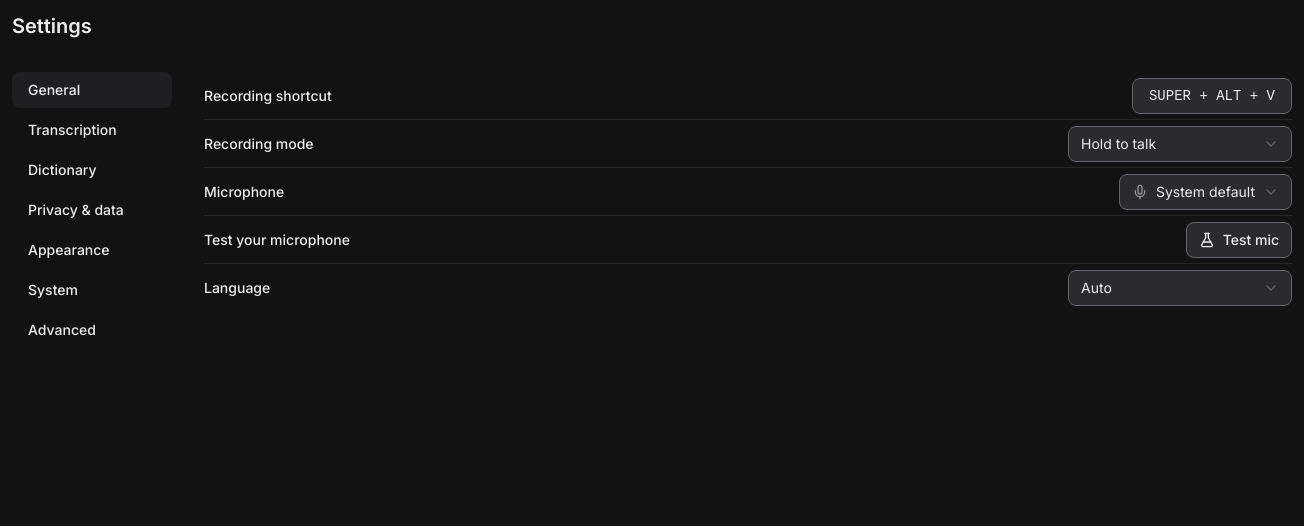
Test case: offers exactly seven settings groups and keeps advanced fields separate
Expected: the field labelled "Provider URL" is not shown
Click the button "Advanced".
click(92, 330)  # box 12,312 -> 172,348
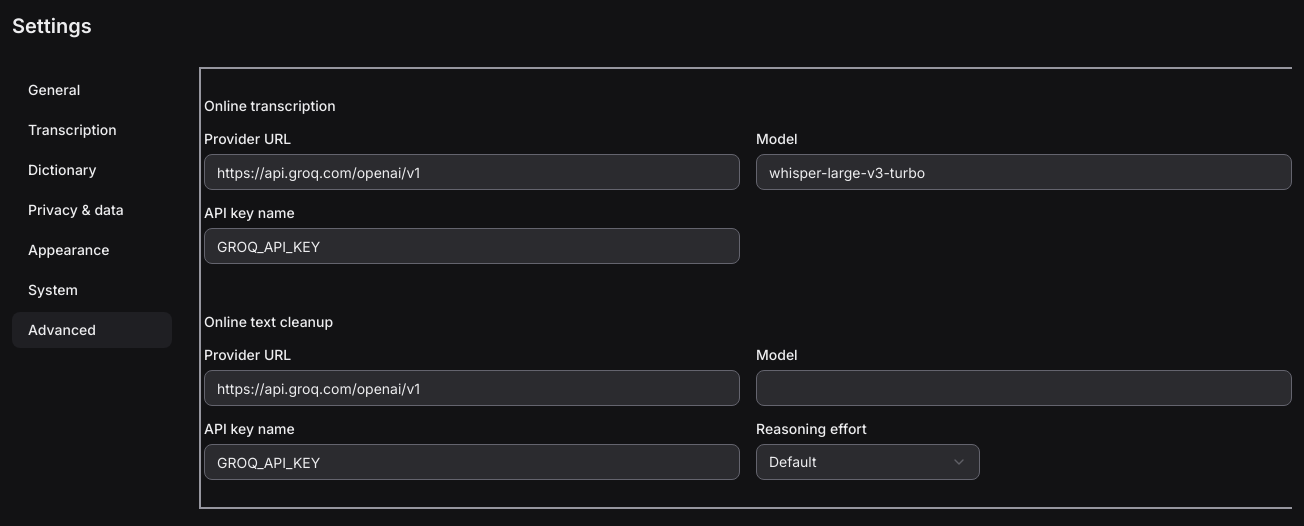
Result: the number of fields labelled "Provider URL" is 2 at 204,154 -> 740,190; 204,370 -> 740,406
